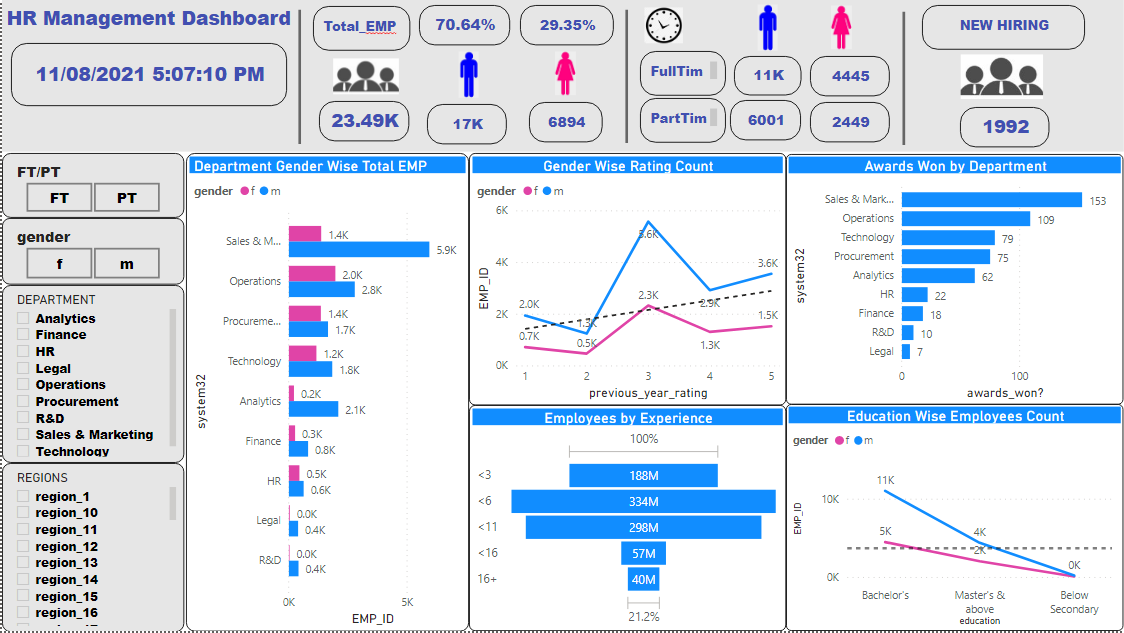

This screenshot's page, from the dashboard's own definition file:
{"tool":"powerbi","page":{"name":"Page 1","canvas":[1280,720],"ordinal":0},"visuals":[{"type":"textbox","box":[0,0,1280,173],"z":0},{"type":"card","fields":{"Values":["HR Analytics.curt_date"]},"box":[10.7,49.1,314.6,72.1],"z":1000},{"type":"basicShape","box":[325.4,1.5,29.2,173.4],"z":2000},{"type":"textbox","box":[354.4,6.4,110.9,51],"z":3000},{"type":"image","box":[354.5,61.4,119.7,50.6],"z":4000},{"type":"card","fields":{"Values":["Count(HR Analytics.EMP_ID)"]},"box":[362.2,115.1,102.8,46],"z":5000},{"type":"image","box":[485,53.7,95.2,62.9],"z":6000},{"type":"image","box":[613.9,53.7,56.8,59.9],"z":7000},{"type":"card","fields":{"Values":["HR Analytics.Male %"]},"box":[475.8,6.1,104.4,46],"z":8000},{"type":"card","fields":{"Values":["HR Analytics.MALE_CNT"]},"box":[485,118.2,90.6,46],"z":9000},{"type":"card","fields":{"Values":["HR Analytics.Female %"]},"box":[590.9,6.1,107.4,46],"z":10000},{"type":"card","fields":{"Values":["HR Analytics.Fem_CNT"]},"box":[601.6,116.6,84.4,46],"z":11000},{"type":"basicShape","box":[698.3,1.5,29.2,171.9],"z":12000},{"type":"image","box":[727.5,3.1,53.7,50.6],"z":13000},{"type":"textbox","box":[727.5,58.3,98.2,50.6],"z":14000},{"type":"textbox","box":[727.5,112,98.2,50.6],"z":15000},{"type":"image","box":[825.7,0,95.2,62.9],"z":16000},{"type":"image","box":[928.5,1.5,56.8,59.9],"z":17000},{"type":"card","fields":{"Values":["HR Analytics.FT_Male"]},"box":[834.9,64.5,76.7,44.5],"z":18000},{"type":"card","fields":{"Values":["HR Analytics.PT_Male"]},"box":[830.3,113.6,81.3,46],"z":19000},{"type":"card","fields":{"Values":["HR Analytics.FT_Female"]},"box":[922.4,64.5,90.6,46],"z":20000},{"type":"card","fields":{"Values":["HR Analytics.PT_Female"]},"box":[922.4,116.6,90.6,46],"z":21000},{"type":"basicShape","box":[1023.7,3.1,10.7,171.9],"z":22000},{"type":"textbox","box":[1049.8,6.1,185.7,50.6],"z":23000},{"type":"image","box":[1059.4,57.4,164.5,61.2],"z":24000},{"type":"card","fields":{"Values":["Count(HR Analytics.EMP_ID)"]},"box":[1092.6,122.4,102,45.9],"z":25000},{"type":"slicer","fields":{"Values":["HR Analytics.FT/PT"]},"box":[0,174.7,207.8,73.9],"z":26000},{"type":"slicer","fields":{"Values":["HR Analytics.gender"]},"box":[0,248.6,207.8,76.5],"z":27000},{"type":"slicer","fields":{"Values":["HR Analytics.system32"]},"box":[0,325.1,207.8,202.7],"z":28000},{"type":"slicer","fields":{"Values":["HR Analytics.region"]},"box":[0,527.8,207.8,192.5],"z":29000},{"type":"clusteredBarChart","title":"Department Gender Wise Total EMP","fields":{"Category":["HR Analytics.system32"],"Y":["CountNonNull(HR Analytics.EMP_ID)"],"Series":["HR Analytics.gender"]},"box":[210.4,174.7,322.5,545.7],"z":30000},{"type":"lineChart","title":"Gender Wise Rating Count","fields":{"Category":["HR Analytics.previous_year_rating"],"Y":["CountNonNull(HR Analytics.EMP_ID)"],"Series":["HR Analytics.gender"]},"box":[532.7,174.1,361.6,288.1],"z":31000},{"type":"clusteredBarChart","title":"Awards Won by Department","fields":{"Y":["Sum(HR Analytics.awards_won?)"],"Category":["HR Analytics.system32"]},"box":[895,175.9,385,285.6],"z":32000},{"type":"lineChart","title":"Education Wise Employees Count","fields":{"Category":["HR Analytics.education"],"Y":["CountNonNull(HR Analytics.EMP_ID)"],"Series":["HR Analytics.gender"]},"box":[895,461.5,385,258.8],"z":33000},{"type":"funnel","title":"Employees by Experience","fields":{"Category":["SORTING.VALUE"],"Y":["Sum(HR Analytics.EMP_ID)"]},"box":[533,462,362,258],"z":34000}]}

Visuals, with their boxes in screenshot pixels (x1, y1, x2, y2), scaled from the page's 1280x720 canvas onto the 1124x633 screenshot:
textbox: (left=0, top=0, right=1123, bottom=152)
card - HR Analytics.curt_date: (left=9, top=43, right=286, bottom=107)
basicShape: (left=286, top=1, right=311, bottom=154)
textbox: (left=311, top=6, right=409, bottom=50)
image: (left=311, top=54, right=416, bottom=98)
card - Count(HR Analytics.EMP_ID): (left=318, top=101, right=408, bottom=142)
image: (left=426, top=47, right=509, bottom=103)
image: (left=539, top=47, right=589, bottom=100)
card - HR Analytics.Male %: (left=418, top=5, right=509, bottom=46)
card - HR Analytics.MALE_CNT: (left=426, top=104, right=505, bottom=144)
card - HR Analytics.Female %: (left=519, top=5, right=613, bottom=46)
card - HR Analytics.Fem_CNT: (left=528, top=103, right=602, bottom=143)
basicShape: (left=613, top=1, right=639, bottom=152)
image: (left=639, top=3, right=686, bottom=47)
textbox: (left=639, top=51, right=725, bottom=96)
textbox: (left=639, top=98, right=725, bottom=143)
image: (left=725, top=0, right=809, bottom=55)
image: (left=815, top=1, right=865, bottom=54)
card - HR Analytics.FT_Male: (left=733, top=57, right=800, bottom=96)
card - HR Analytics.PT_Male: (left=729, top=100, right=800, bottom=140)
card - HR Analytics.FT_Female: (left=810, top=57, right=890, bottom=97)
card - HR Analytics.PT_Female: (left=810, top=103, right=890, bottom=143)
basicShape: (left=899, top=3, right=908, bottom=154)
textbox: (left=922, top=5, right=1085, bottom=50)
image: (left=930, top=50, right=1075, bottom=104)
card - Count(HR Analytics.EMP_ID): (left=959, top=108, right=1049, bottom=148)
slicer - HR Analytics.FT/PT: (left=0, top=154, right=182, bottom=219)
slicer - HR Analytics.gender: (left=0, top=219, right=182, bottom=286)
slicer - HR Analytics.system32: (left=0, top=286, right=182, bottom=464)
slicer - HR Analytics.region: (left=0, top=464, right=182, bottom=632)
"Department Gender Wise Total EMP" clusteredBarChart: (left=185, top=154, right=468, bottom=632)
"Gender Wise Rating Count" lineChart: (left=468, top=153, right=785, bottom=406)
"Awards Won by Department" clusteredBarChart: (left=786, top=155, right=1123, bottom=406)
"Education Wise Employees Count" lineChart: (left=786, top=406, right=1123, bottom=632)
"Employees by Experience" funnel: (left=468, top=406, right=786, bottom=632)
